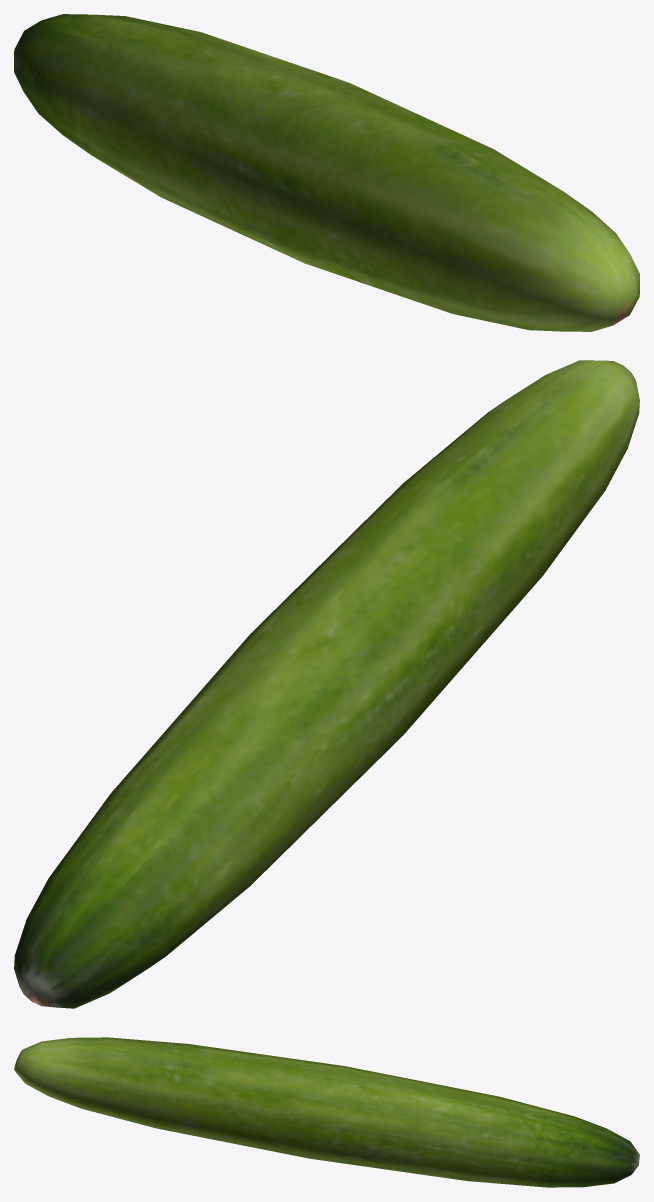
Rendered from SM_配餐室_水果蔬菜_14.fbx.
3 renders of one model, top to bottom at view 1: azimuth 30°, elevation 25°; view 2: azimuth 150°, elevation 25°; view 3: azimuth 270°, elevation 25°, orthographic. The views are drawn at different scales.
Parts seen in each view (by area): view 1: SM_配餐室_水果蔬菜_14; view 2: SM_配餐室_水果蔬菜_14; view 3: SM_配餐室_水果蔬菜_14.
Part boxes in pixels (x1,y1,x2,y2): SM_配餐室_水果蔬菜_14: (14,14,639,331); SM_配餐室_水果蔬菜_14: (14,360,639,1008); SM_配餐室_水果蔬菜_14: (14,1037,639,1187).
Size of the model in its own units: 55 by 88.97 by 354.
